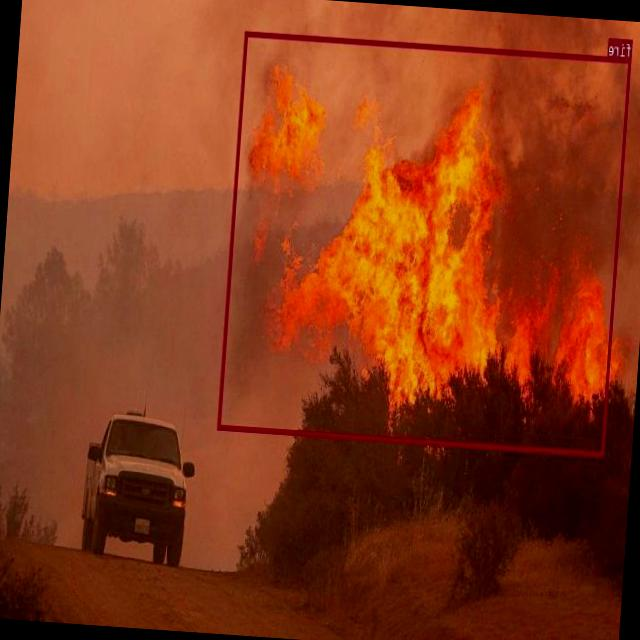fire: (218, 30, 632, 455)
